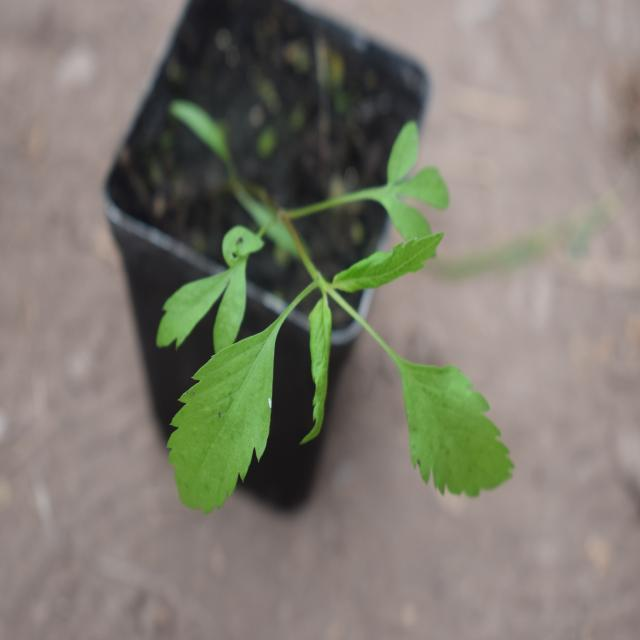Bidens pilosa: (146, 128, 533, 516)
